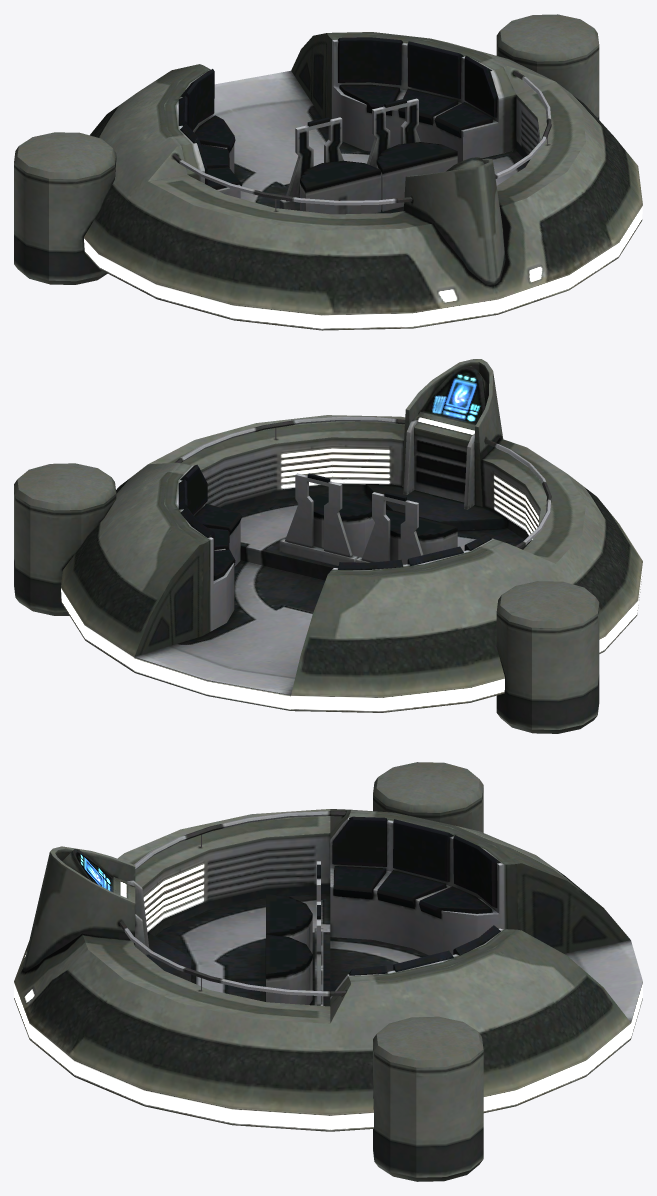
File: senatepod.glb
3 renders of one model, top to bottom at view 1: azimuth 30°, elevation 25°; view 2: azimuth 150°, elevation 25°; view 3: azimuth 270°, elevation 25°, orthographic. The views are drawn at different scales.
Parts seen in each view (by area): view 1: Object_2; view 2: Object_2; view 3: Object_2.
Boxes of the visible parts, box(x1,y1,x2,y2) form: Object_2: box(14, 14, 642, 330); Object_2: box(14, 359, 642, 733); Object_2: box(14, 762, 642, 1181).
Size of the model in its own units: 3.39 by 1.05 by 2.99.
1 material, 1 textured.
